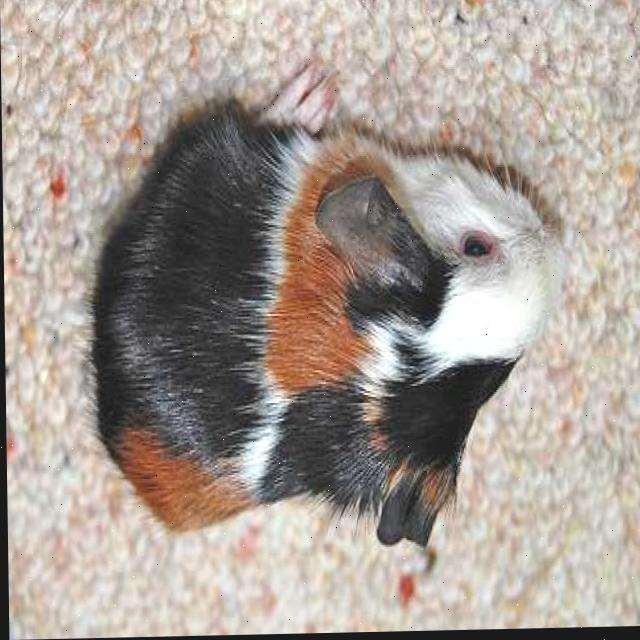guinea pig: (90, 92, 559, 555)
